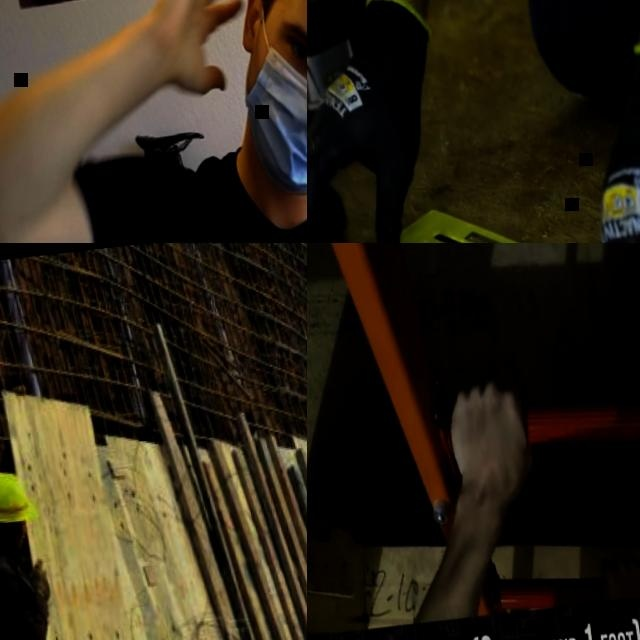Hardhat: (0, 465, 32, 527)
Mask: (229, 0, 307, 196)
NO-Mask: (1, 524, 25, 549)
NO-Safety Vest: (0, 534, 42, 640)
Person: (307, 0, 640, 243), (71, 0, 307, 243), (381, 376, 551, 622), (0, 454, 103, 640)
